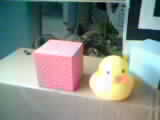duck: (76, 48, 143, 109)
